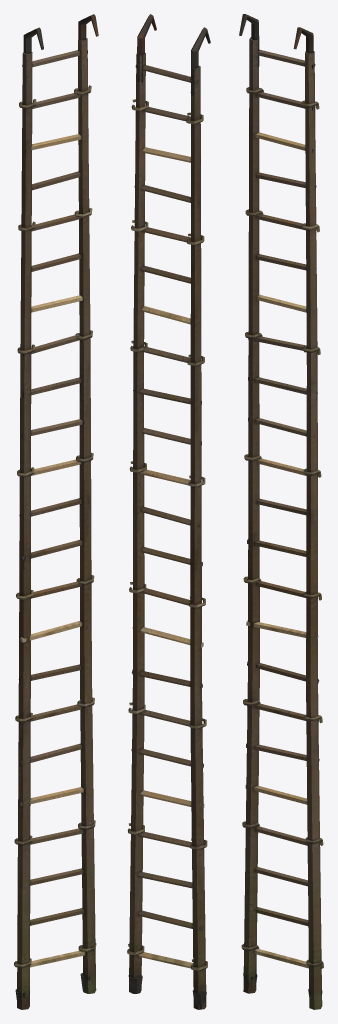
The model's file is ladder.glb.
3 views of the same model, side by side, from view 1: azimuth 30°, elevation 25°; view 2: azimuth 150°, elevation 25°; view 3: azimuth 330°, elevation 25° (orthographic).
Parts seen in each view (by area): view 1: body_LOD0; view 2: body_LOD0; view 3: body_LOD0.
Boxes of the visible parts, bbox=[...] form: body_LOD0: bbox=[14, 14, 98, 1009]; body_LOD0: bbox=[127, 14, 210, 1009]; body_LOD0: bbox=[239, 14, 323, 1009].
Size of what is drawn, in the model's own units: 0.6283 by 7.24 by 0.2664.
Materials: 1 (1 with a texture image).
